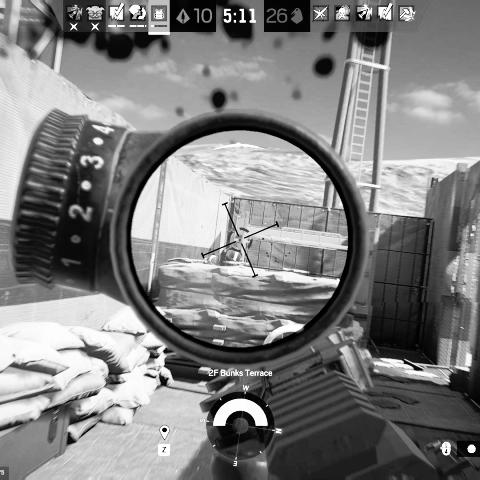Character: (206, 244, 243, 266)
Head: (221, 245, 243, 264)
